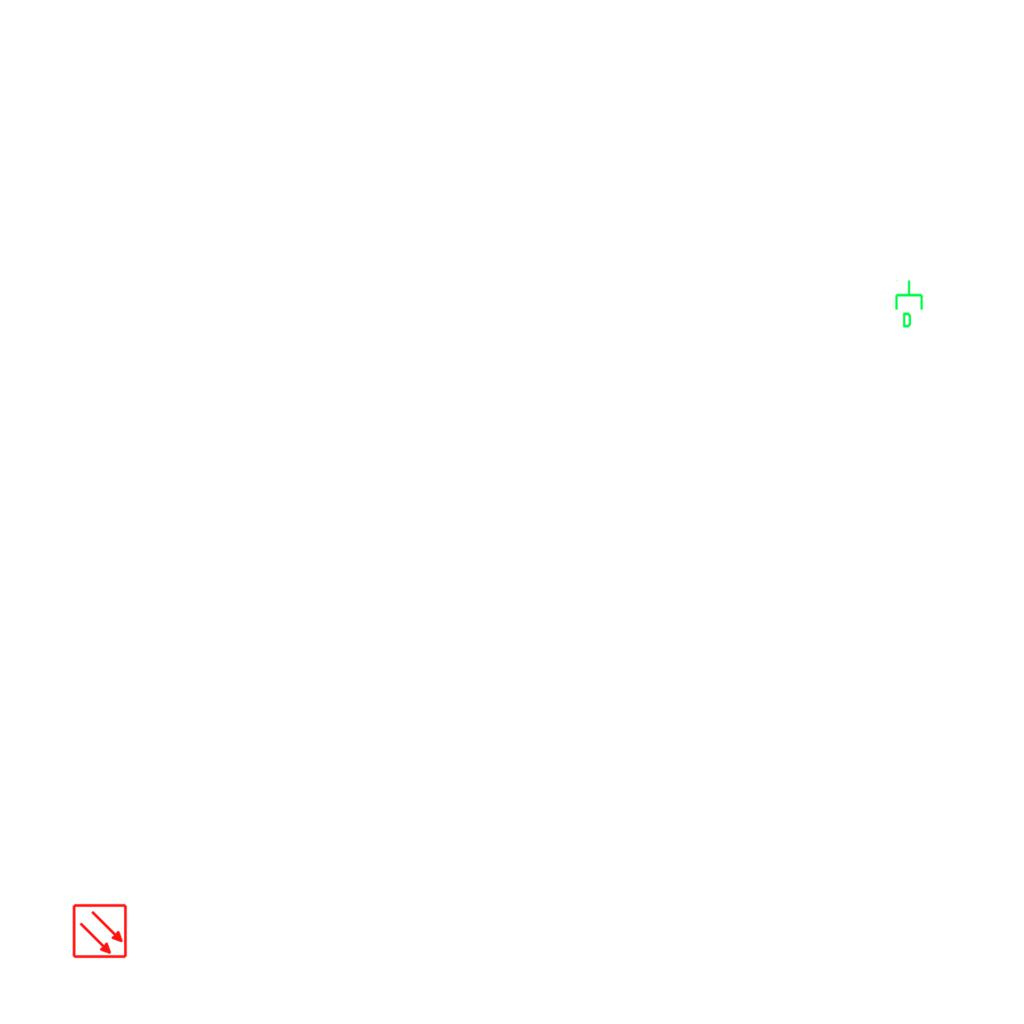Datenanschluss_einfach: (893, 279, 927, 329)
RMO_Rauchmelder_optischer: (72, 903, 128, 959)
